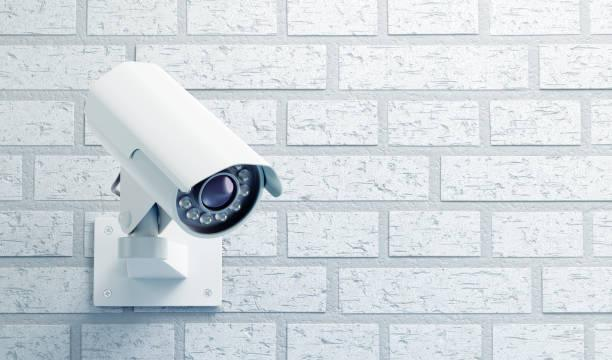camera: (70, 45, 289, 284)
